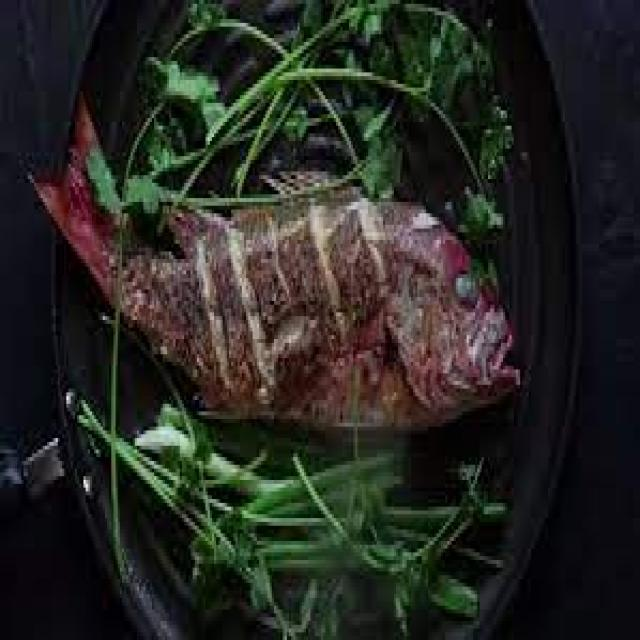Peixe: (28, 92, 522, 434)
